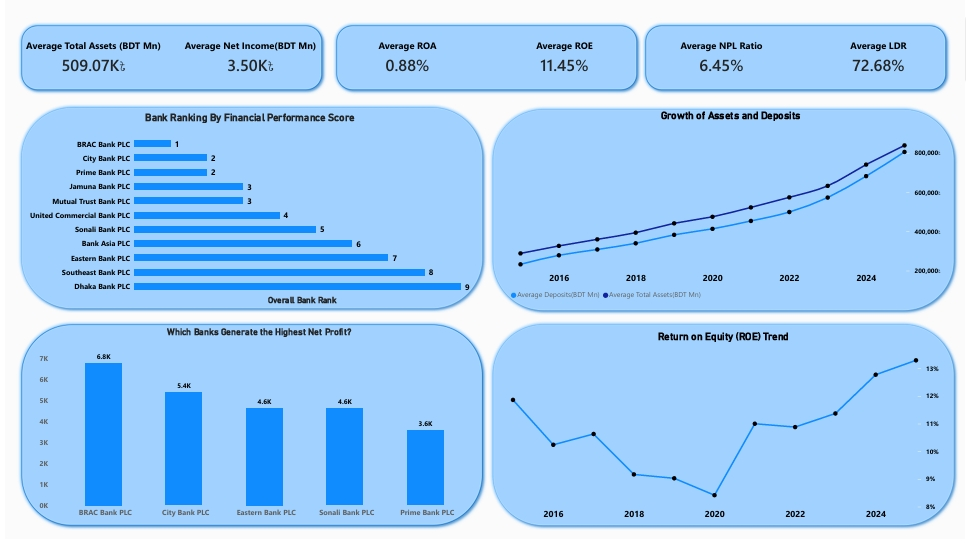

The page's visual inventory and layout, read from the dashboard file:
{"tool":"powerbi","page":{"name":"Executive Overview","canvas":[1920,1080],"ordinal":0},"visuals":[{"type":"cardVisual","fields":{"Data":["Avg(Financials.Total_Assets (BDT Mn))","Avg(Financials.Net_Income(BDT Mn))","Avg(Reported_Ratios_cleaned.ROA)","Avg(Reported_Ratios_cleaned.ROE)","Avg(Reported_Ratios_cleaned.NPL_Ratio)","Avg(Reported_Ratios_cleaned.LDR)"]},"box":[22,42,1878,148],"z":0},{"type":"barChart","title":"Bank Ranking By Financial Performance Score","fields":{"Category":["Bank_Master.Bank_Name"],"Y":["Validation.Overall Bank Rank"]},"box":[21.9,206.2,912.5,415.6],"z":1000},{"type":"lineChart","title":"Growth of Assets and Deposits","fields":{"Category":["Dim_Year.Year"],"Y":["Avg(Financials.Total_Deposits(BDT Mn))"],"Y2":["Avg(Financials.Total_Assets (BDT Mn))"]},"box":[987.5,207.5,912.5,415.6],"z":2000},{"type":"lineChart","title":"Return on Equity (ROE) Trend","fields":{"Category":["Reported_Ratios_cleaned.Year"],"Y2":["Median(Reported_Ratios_cleaned.ROE)"]},"box":[987.5,645,912.5,415.6],"z":3000},{"type":"columnChart","title":"Which Banks Generate the Highest Net Profit?","fields":{"Category":["Bank_Master.Bank_Name"],"Y":["Avg(Financials.Net_Income(BDT Mn))"]},"box":[22.5,645,912.5,415.6],"z":4000}]}

Visuals, with their boxes in screenshot pixels (x1, y1, x2, y2), scaled from the page's 1920x1080 canvas onto the 972x546 screenshot:
cardVisual - Avg(Financials.Total_Assets (BDT Mn)) x Avg(Financials.Net_Income(BDT Mn)): (x1=11, y1=21, x2=962, y2=96)
"Bank Ranking By Financial Performance Score" barChart: (x1=11, y1=104, x2=473, y2=314)
"Growth of Assets and Deposits" lineChart: (x1=500, y1=105, x2=962, y2=315)
"Return on Equity (ROE) Trend" lineChart: (x1=500, y1=326, x2=962, y2=536)
"Which Banks Generate the Highest Net Profit?" columnChart: (x1=11, y1=326, x2=473, y2=536)
